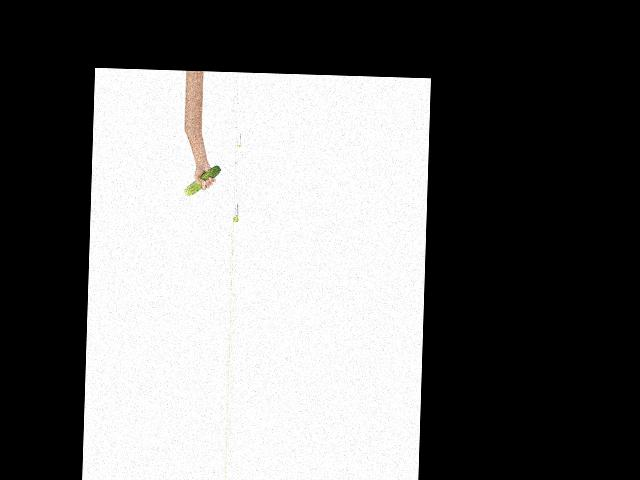cucumber: (184, 163, 221, 196)
